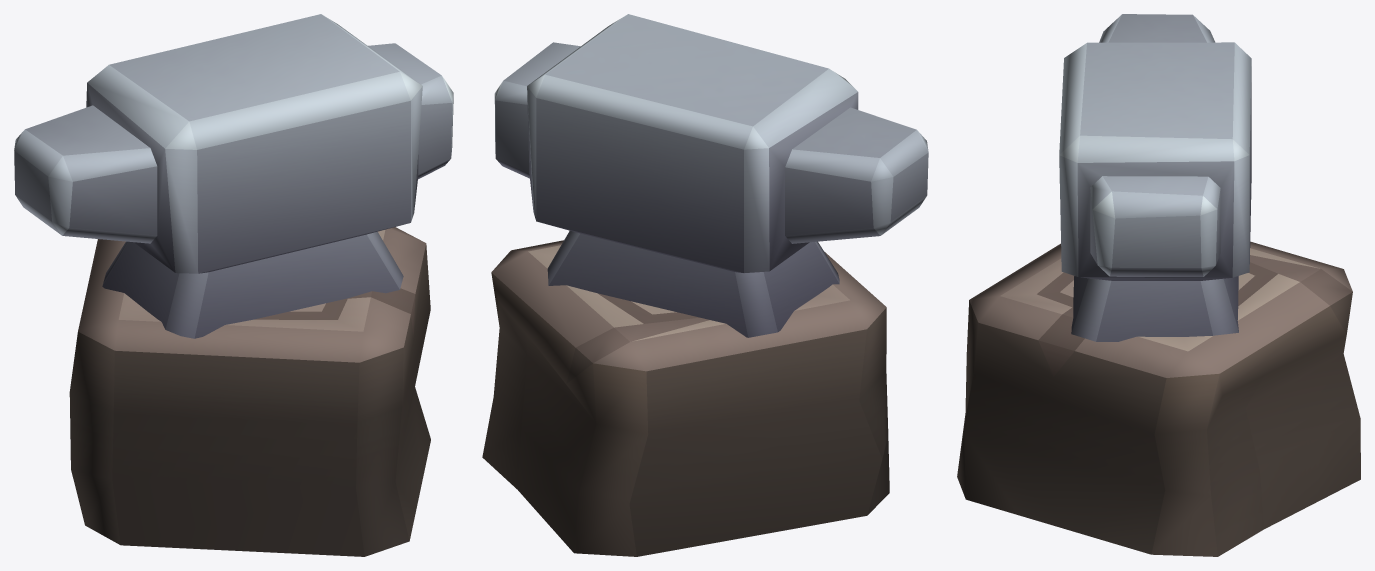
File: elf_anvil.fbx
The picture shows the model from 3 angles, left to right: view 1: azimuth 30°, elevation 25°; view 2: azimuth 150°, elevation 25°; view 3: azimuth 270°, elevation 25°; orthographic projection. The views are drawn at different scales.
Parts seen in each view (by area): view 1: elf_anvil; view 2: elf_anvil; view 3: elf_anvil.
Part boxes in pixels (x1,y1,x2,y2): elf_anvil: (14,14,453,556); elf_anvil: (482,14,928,556); elf_anvil: (957,14,1360,556).
Bounding box in the file's own units: 229 × 225 × 213.
